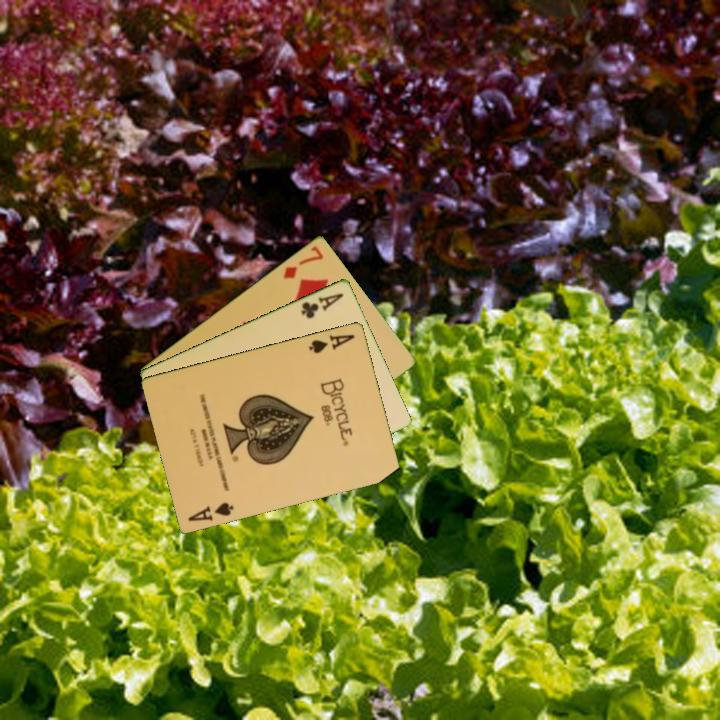7d: (280, 242, 326, 281)
Ac: (297, 289, 346, 321)
As: (305, 330, 358, 356), (185, 498, 237, 524)
